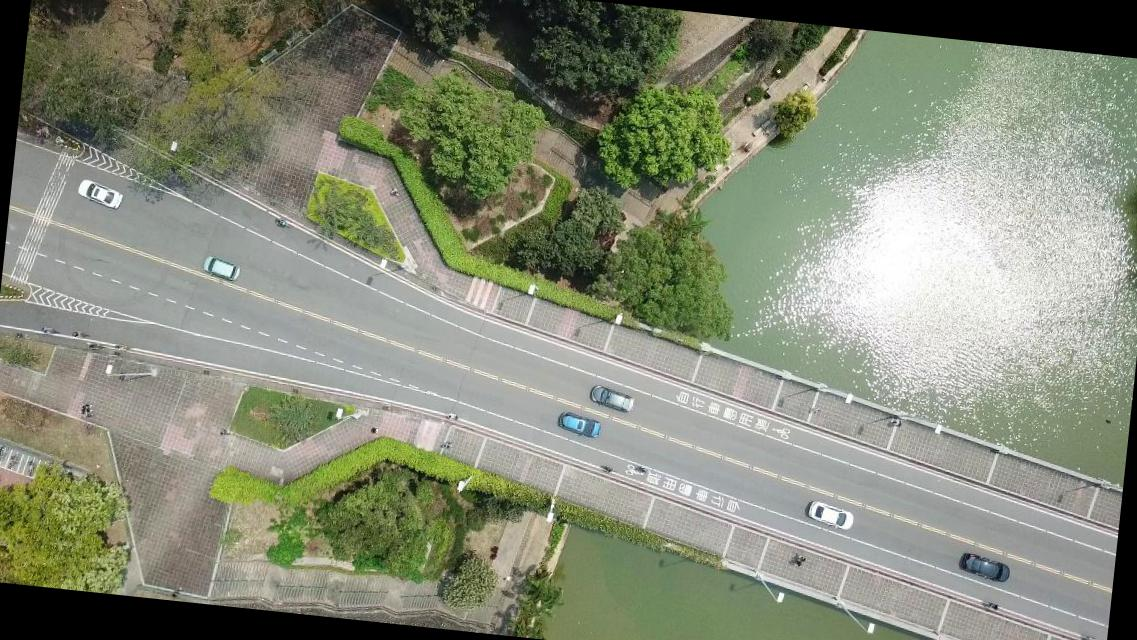vehicle: (75, 178, 125, 210), (960, 552, 1011, 582), (806, 500, 854, 531), (589, 384, 635, 413), (557, 411, 602, 438), (202, 254, 240, 282)
